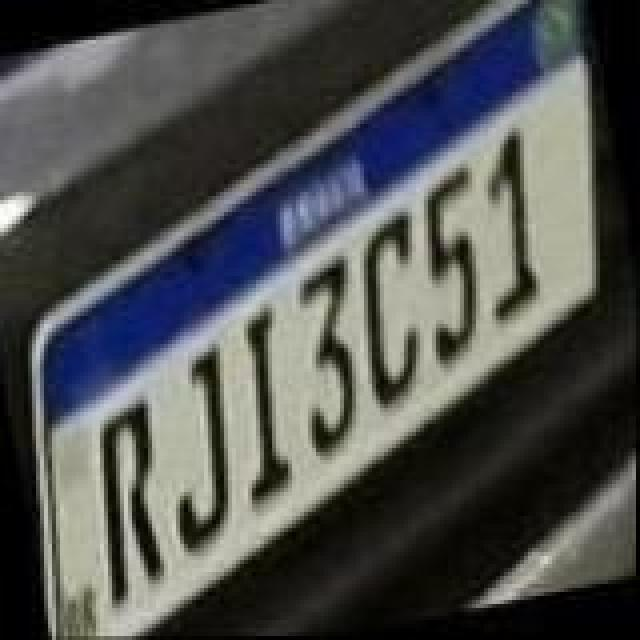1: (460, 124, 560, 328)
3: (278, 254, 390, 466)
5: (402, 164, 506, 368)
C: (334, 206, 446, 410)
I: (212, 302, 312, 506)
J: (144, 346, 260, 562)
R: (76, 396, 192, 608)
